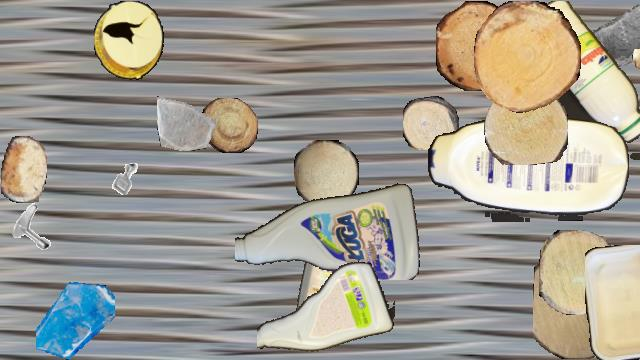glass: (36, 281, 114, 359), (588, 1, 640, 73), (157, 92, 215, 150)
metal: (6, 200, 60, 254), (598, 247, 640, 307), (104, 157, 148, 201), (0, 99, 5, 161), (0, 45, 3, 93)
plastic: (428, 118, 628, 222), (235, 176, 423, 280), (520, 1, 640, 159), (257, 257, 395, 359), (291, 217, 357, 339), (585, 245, 640, 359), (94, 1, 164, 79)
wood: (474, 1, 580, 113), (533, 247, 621, 359), (436, 1, 518, 91), (539, 230, 619, 314), (484, 84, 568, 164), (294, 140, 358, 204), (1, 136, 47, 202), (201, 98, 257, 152), (403, 96, 459, 150), (631, 49, 640, 103)
